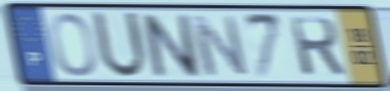7: (243, 10, 283, 83)
N: (137, 11, 205, 79), (187, 13, 252, 78)
O: (47, 11, 99, 79)
R: (286, 15, 348, 79)
U: (89, 8, 150, 82)
